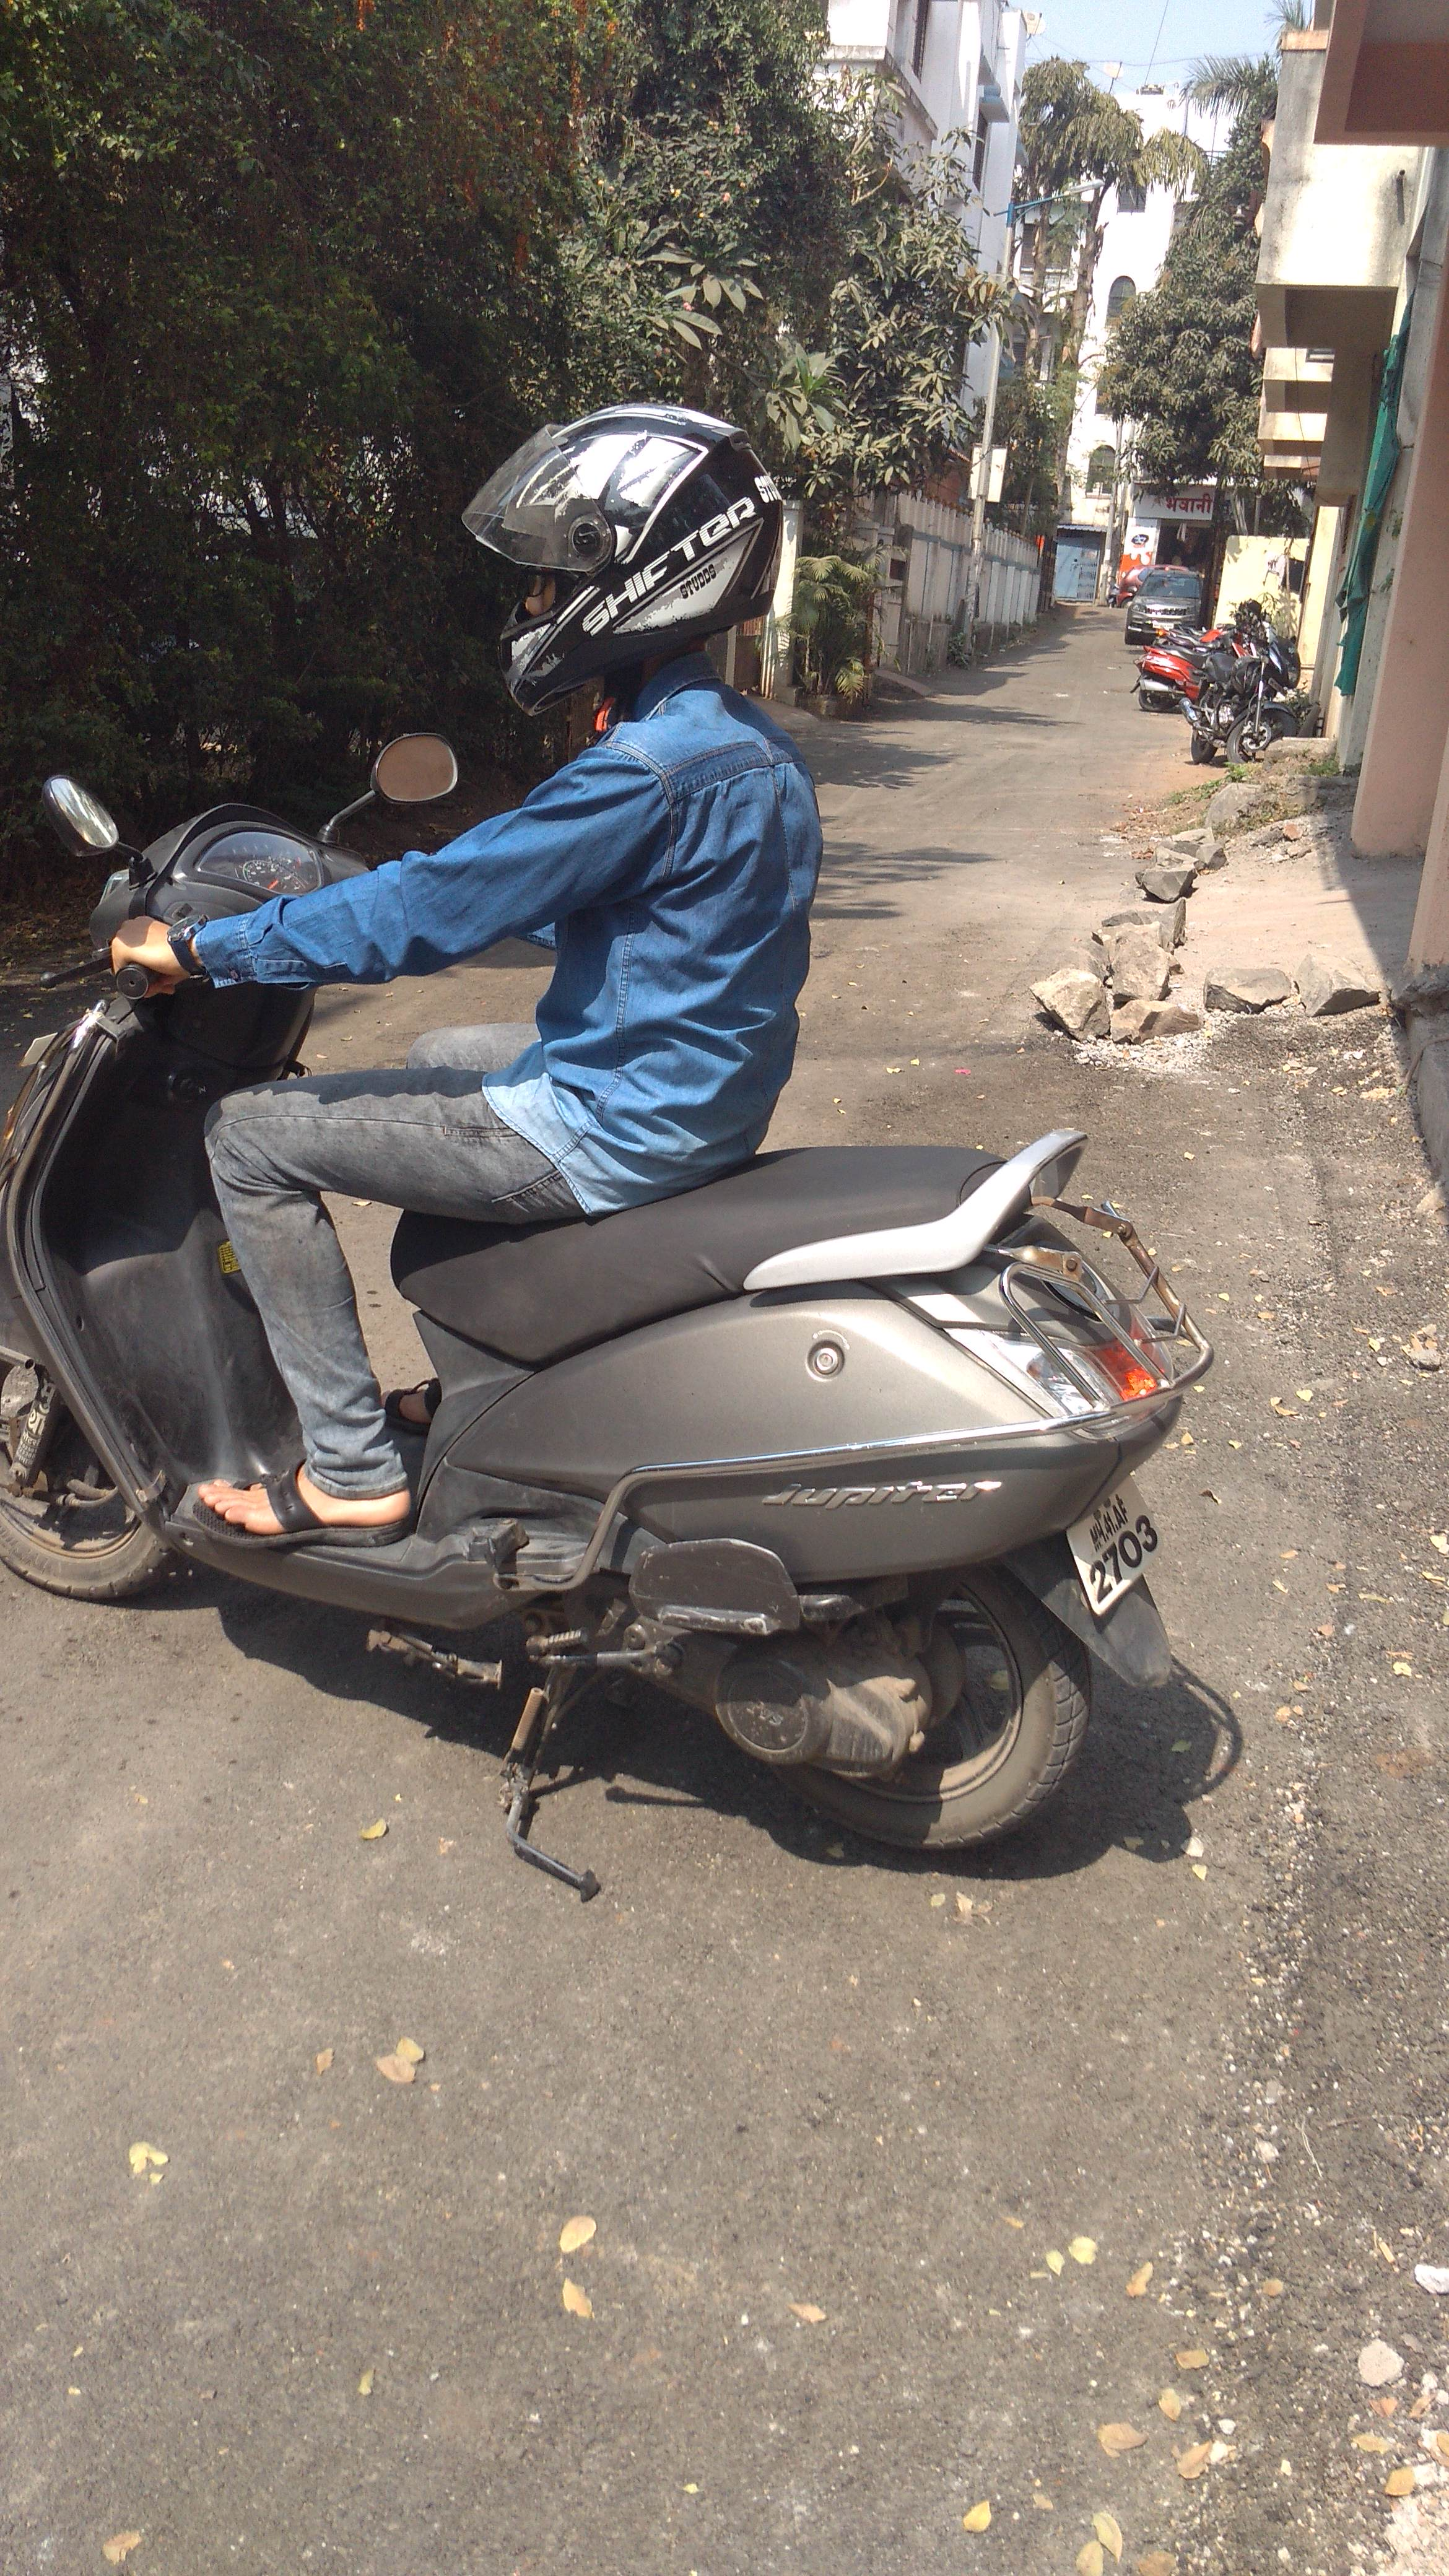helmet: (311, 387, 860, 1359)
